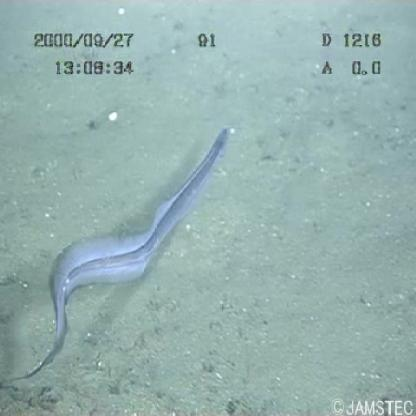Bio: (11, 121, 234, 385)
